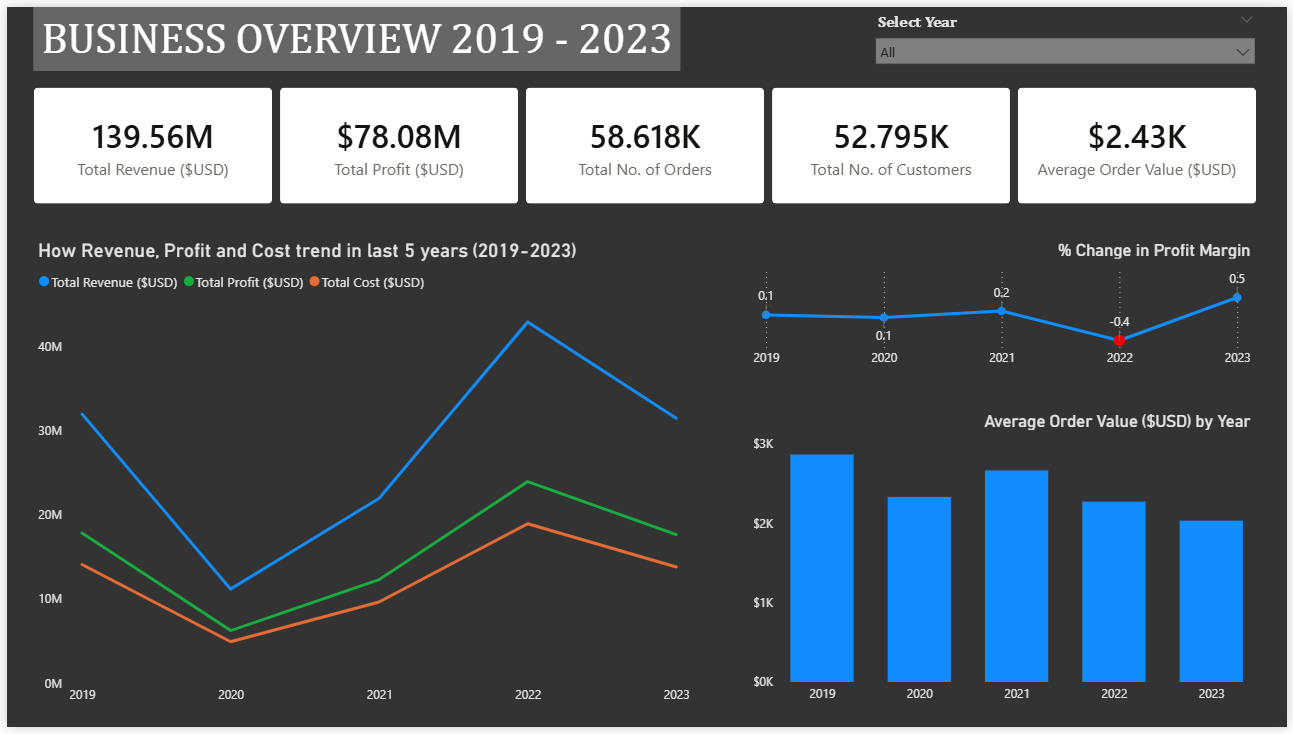

This screenshot's page, from the dashboard's own definition file:
{"tool":"powerbi","page":{"name":"Page 1","canvas":[1280,720],"ordinal":0},"visuals":[{"type":"textbox","box":[26.2,0,647.5,63.8],"z":0},{"type":"cardVisual","fields":{"Data":["Sum(public yearly_metric_changes.total_revenue)","Sum(public yearly_metric_changes.total_profit)","Sum(public yearly_metric_changes.no_of_orders)","Sum(public yearly_metric_changes.no_of_customers)","Avg(public yearly_metric_changes.avg_order_value)"]},"box":[10,64.3,1258.6,150],"z":1000},{"type":"lineChart","title":"How Revenue, Profit and Cost trend in last 5 years (2019-2023)","fields":{"Category":["public yearly_metric_changes.order_year"],"Y":["Sum(public yearly_metric_changes.total_revenue)","Sum(public yearly_metric_changes.total_profit)","Sum(public yearly_metric_changes.total_cost)"]},"box":[26.2,232.5,661.2,473.8],"z":2000},{"type":"slicer","fields":{"Values":["public yearly_metric_changes.order_year"]},"box":[857.5,0,401.2,63.8],"z":3000},{"type":"lineStackedColumnComboChart","fields":{"Category":["public yearly_metric_changes.order_year"],"Y":["Sum(public yearly_metric_changes.avg_order_value)"]},"box":[741.4,404.3,507.1,301.4],"z":4000},{"type":"lineChart","title":"% Change in Profit Margin","fields":{"Category":["public yearly_metric_changes.order_year"],"Y":["Sum(public yearly_metric_changes.profit_margin_change)"]},"box":[741.4,232.9,507.1,137.1],"z":5000}]}

Visuals, with their boxes in screenshot pixels (x1, y1, x2, y2), scaled from the page's 1280x720 canvas onto the 1293x734 screenshot:
textbox: 26:0:681:65
cardVisual - Sum(public yearly_metric_changes.total_revenue) x Sum(public yearly_metric_changes.total_profit): 10:66:1281:218
"How Revenue, Profit and Cost trend in last 5 years (2019-2023)" lineChart: 26:237:694:720
slicer - public yearly_metric_changes.order_year: 866:0:1271:65
lineStackedColumnComboChart - public yearly_metric_changes.order_year x Sum(public yearly_metric_changes.avg_order_value): 749:412:1261:719
"% Change in Profit Margin" lineChart: 749:237:1261:377
